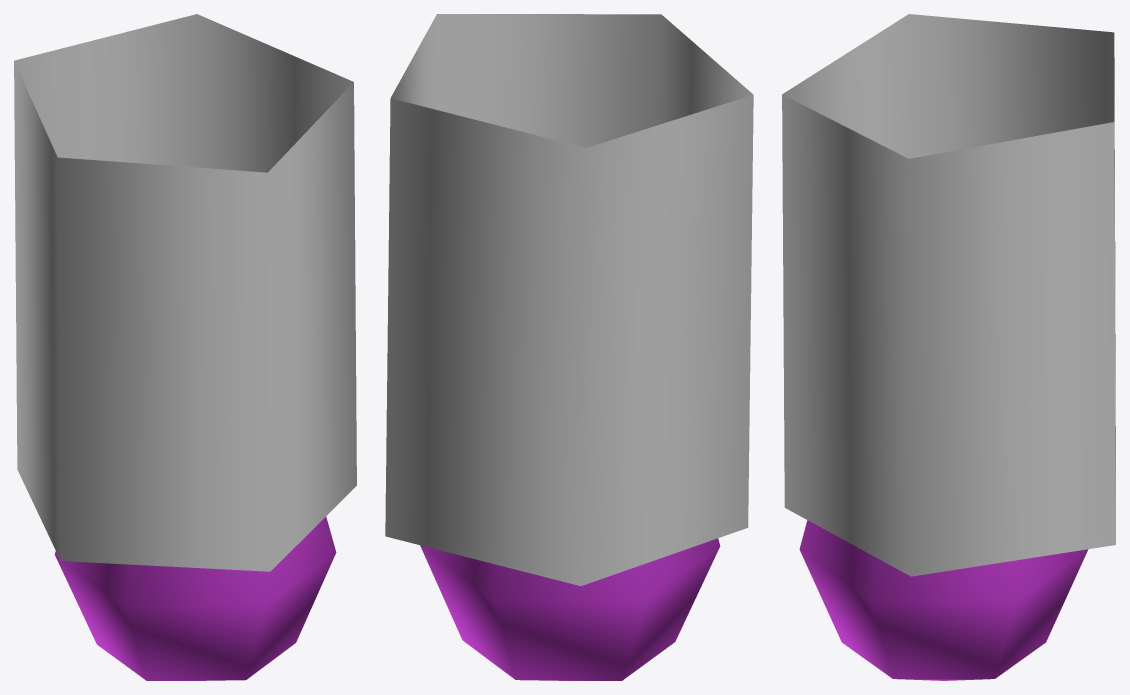
File: little_proximal.gltf
The picture shows the model from 3 angles, left to right: view 1: azimuth 30°, elevation 25°; view 2: azimuth 150°, elevation 25°; view 3: azimuth 270°, elevation 25°; orthographic projection. The views are drawn at different scales.
Parts seen in each view (by area): view 1: LEFT_LITTLE_PROXIMAL; view 2: LEFT_LITTLE_PROXIMAL; view 3: LEFT_LITTLE_PROXIMAL.
Boxes of the visible parts, x1,y1,x2,y2 form: LEFT_LITTLE_PROXIMAL: [14, 14, 356, 680]; LEFT_LITTLE_PROXIMAL: [385, 14, 753, 680]; LEFT_LITTLE_PROXIMAL: [782, 14, 1115, 680].
Bounding box in the file's own units: 0.026 × 0.0484 × 0.0244.
